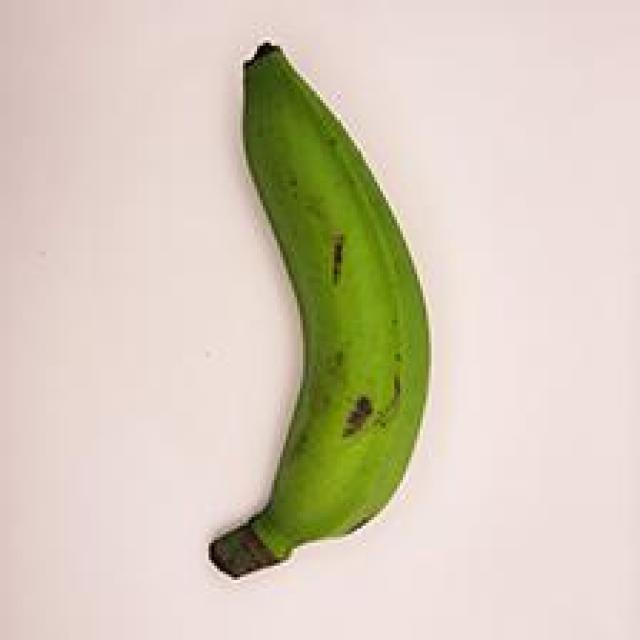Raw: (157, 21, 456, 596)
